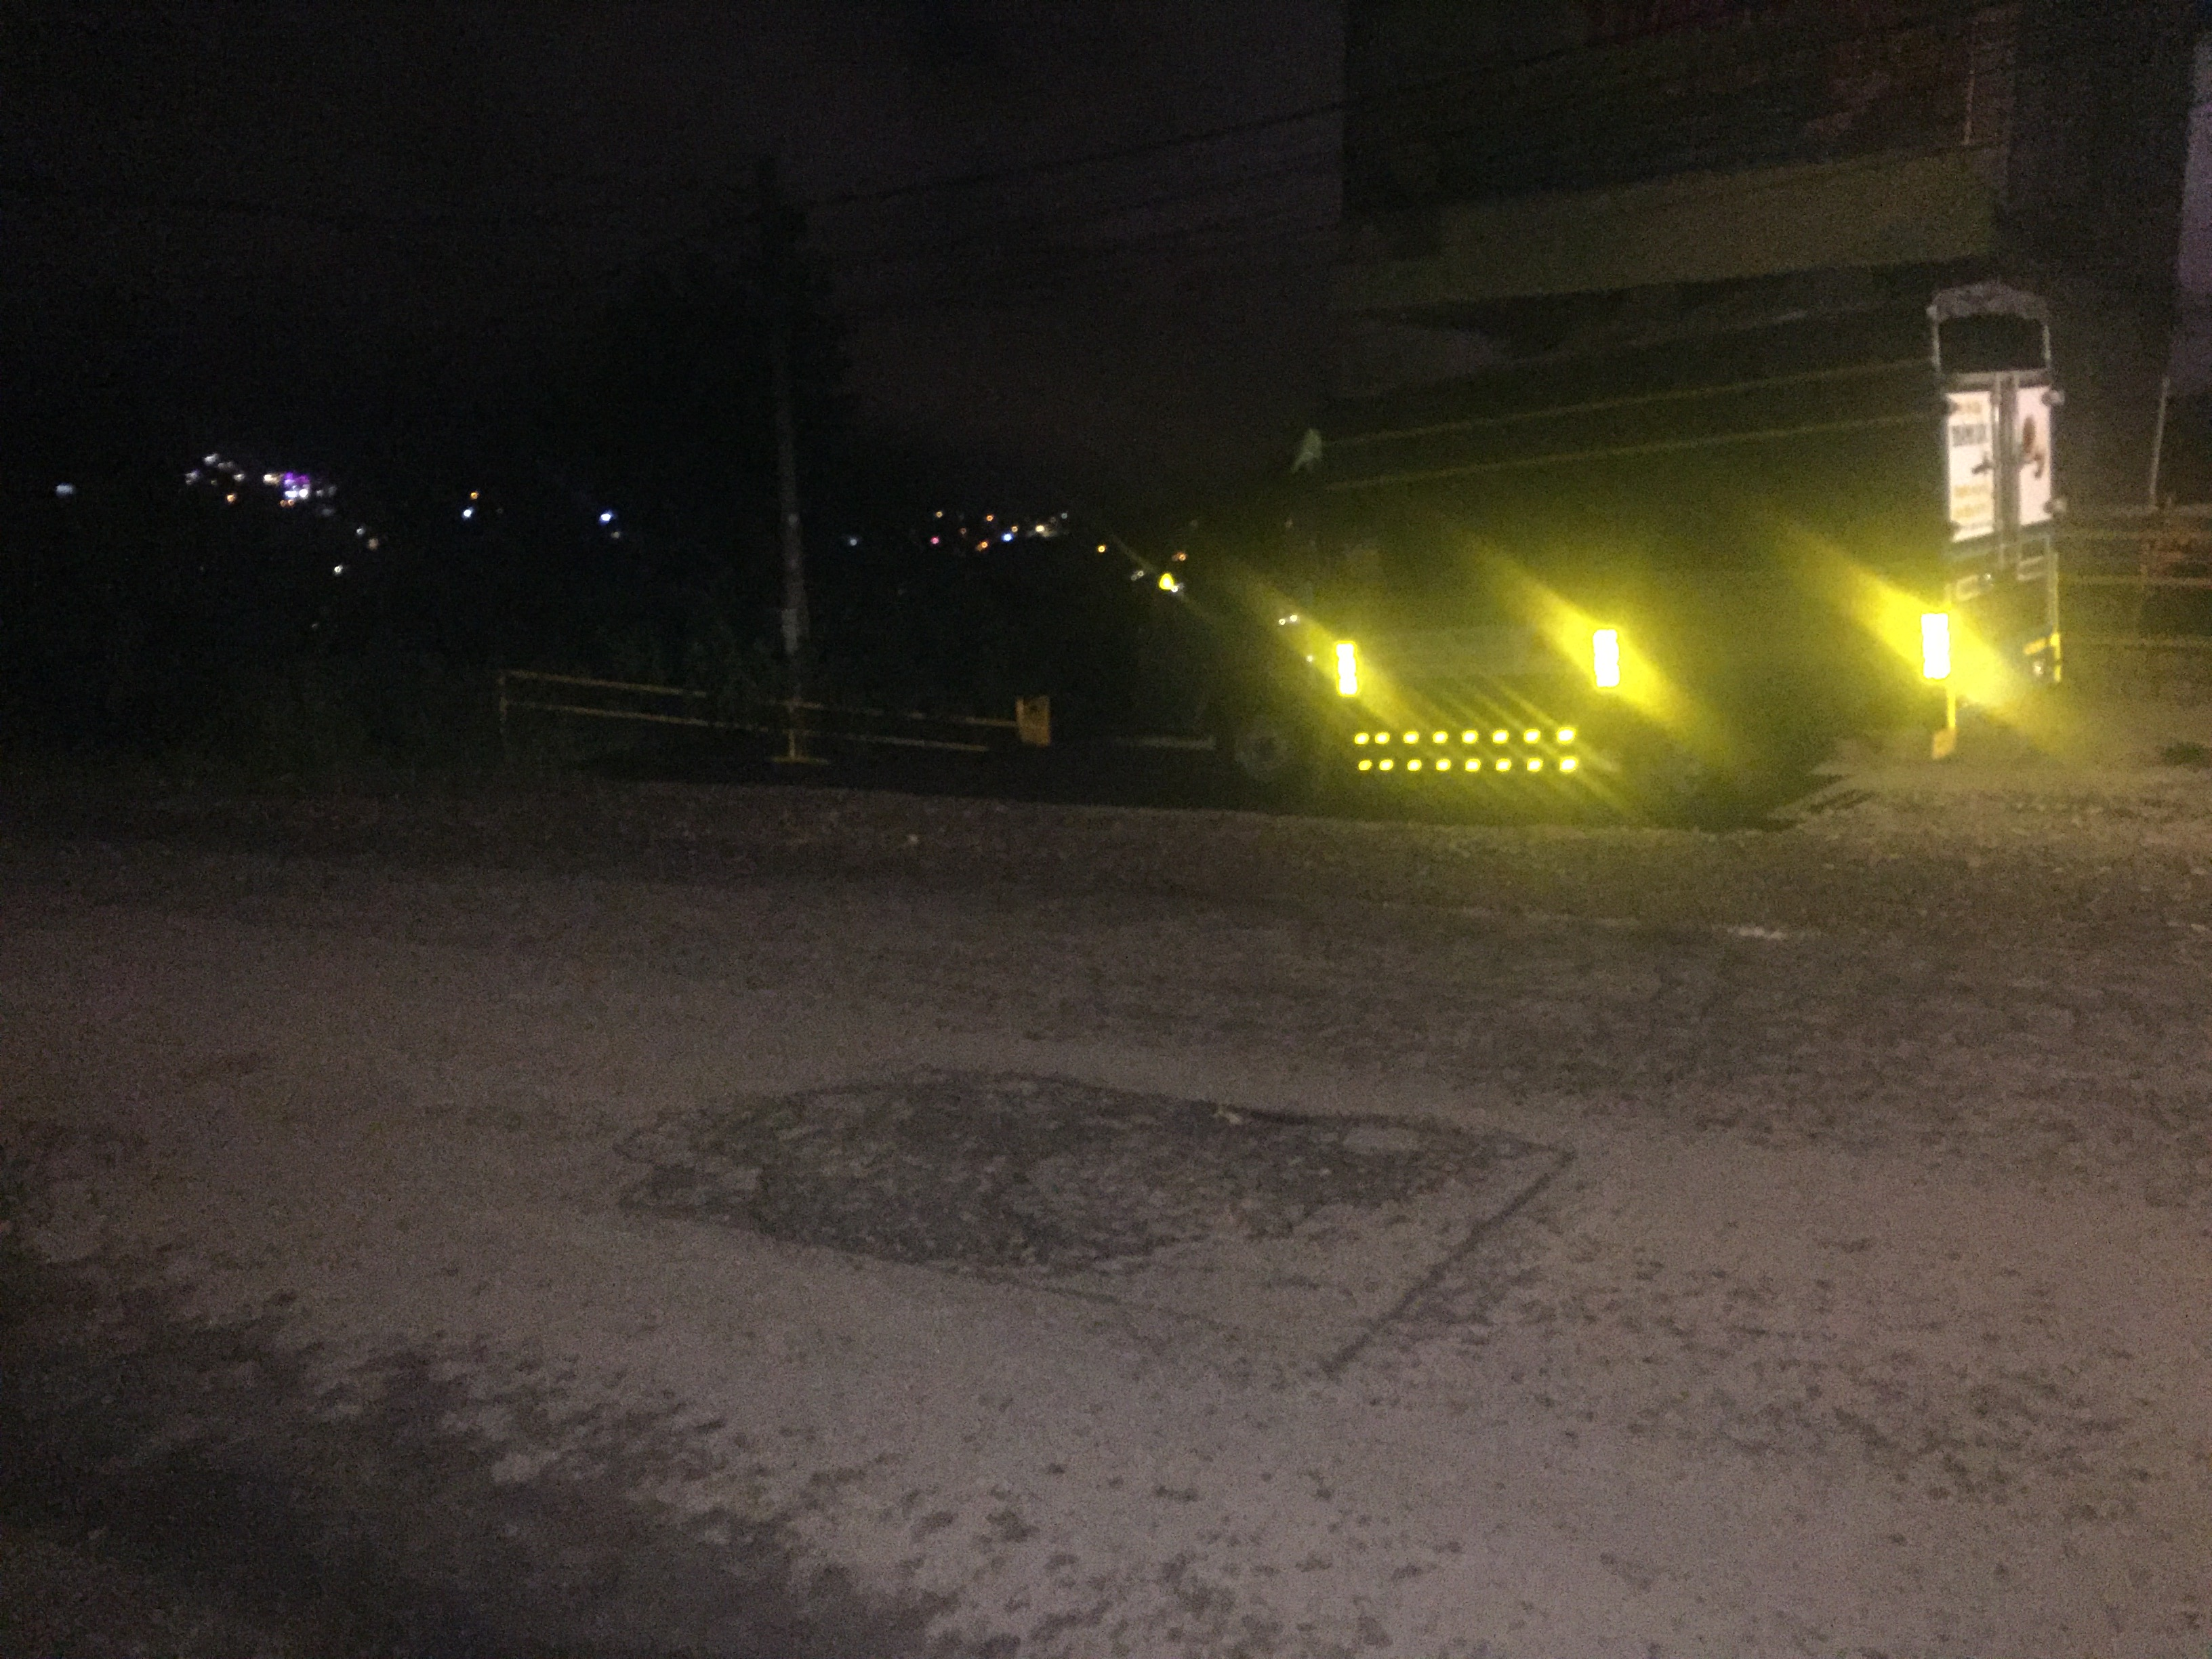hole: (585, 1086, 1552, 1290)
